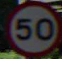Speed limit: (5, 7, 53, 51)
